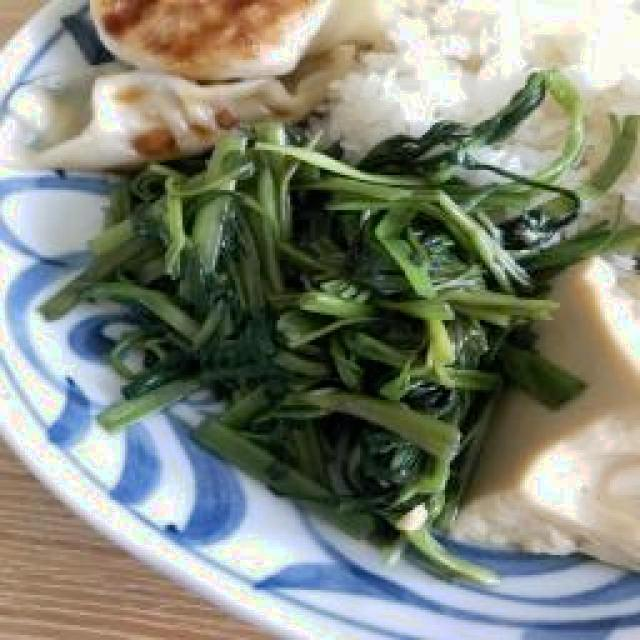water_spinach: (39, 66, 634, 588)
